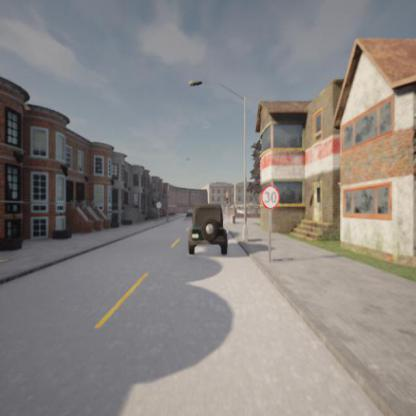traffic_sign_30: (261, 185, 280, 209)
vehicle: (188, 203, 228, 255)
